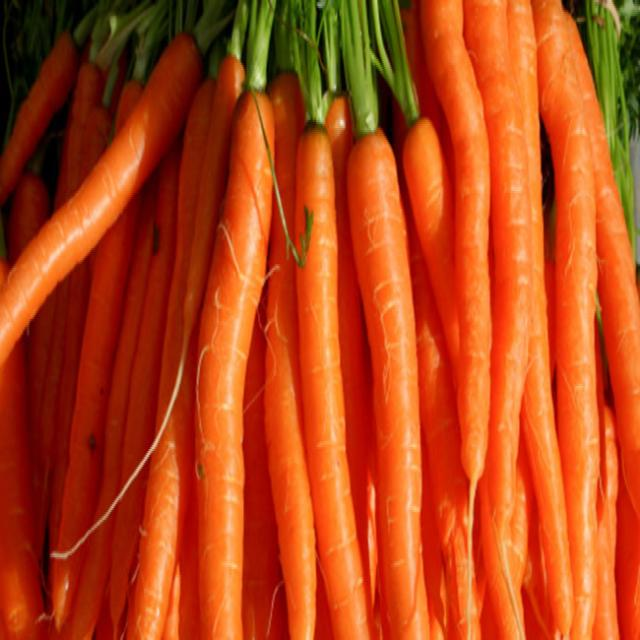Fresh_Carrot: (528, 8, 600, 640), (418, 0, 490, 547), (199, 81, 267, 640), (299, 123, 362, 640)
